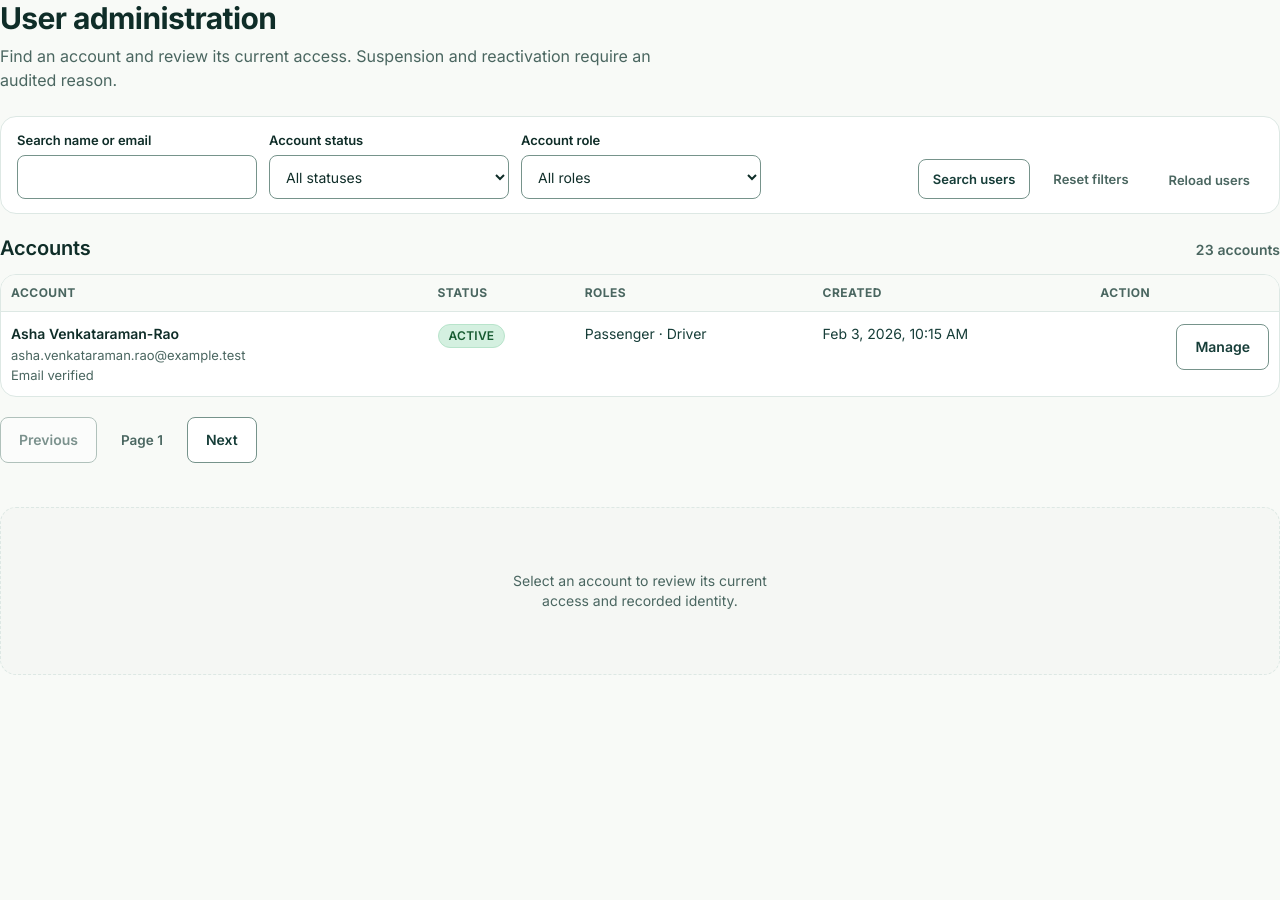
it: selects an account, requires an audited reason and refreshes the row after suspension
Click the button "Manage": (1223, 347) top-left (1176, 324), bottom-right (1269, 370)
(page scrolled)
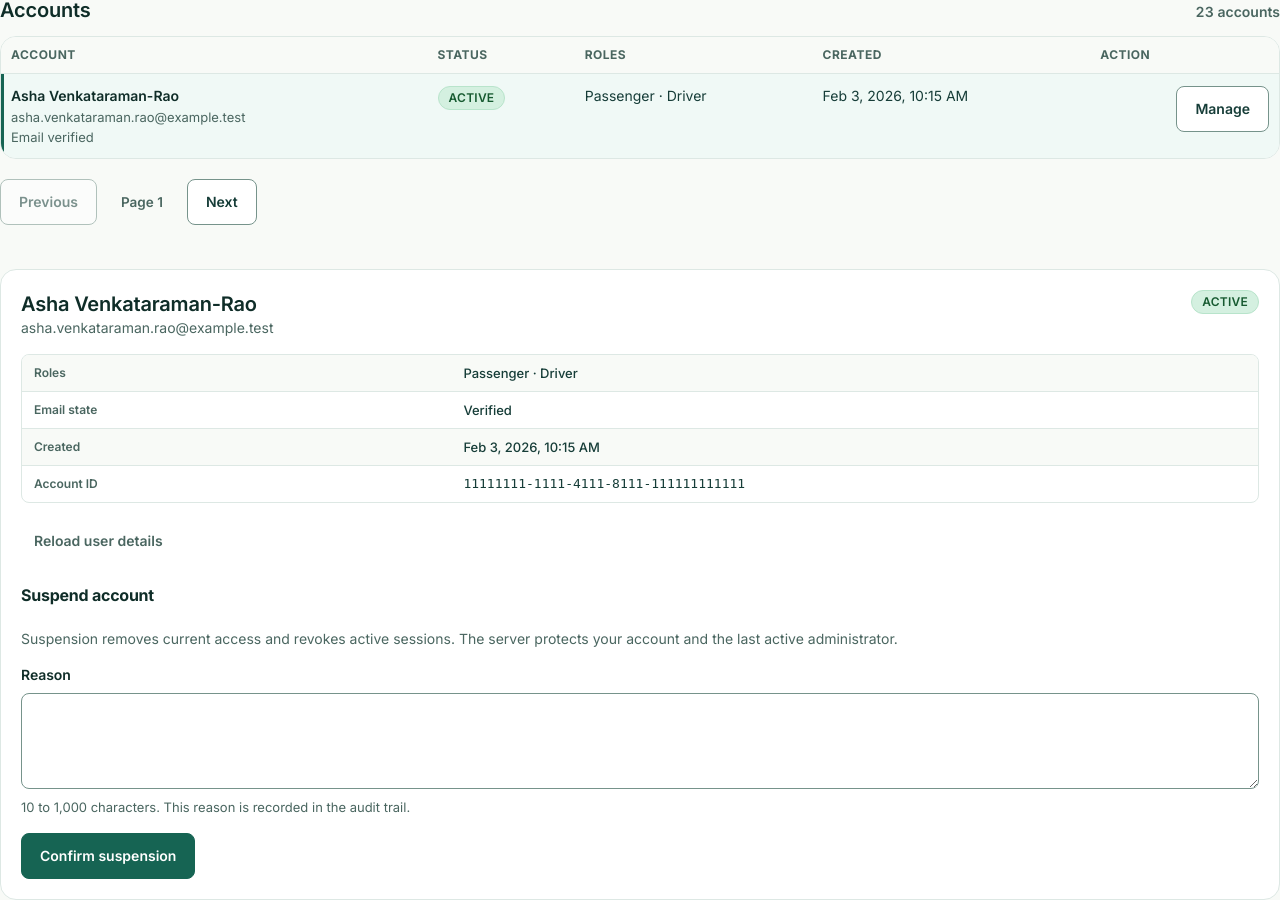
expect the text "Passenger · Driver" is shown 2 times: met, box top-left (575, 74), bottom-right (813, 158); top-left (463, 365), bottom-right (578, 381)
expect the heading "Asha Venkataraman-Rao" is shown: met, box top-left (21, 290), bottom-right (274, 318)
expect the text "11111111-1111-4111-8111-111111111111" is shown: met, box top-left (463, 476), bottom-right (745, 491)
Submit the form named "Change account access", box top-left (21, 579), bottom-right (1259, 879)
(page scrolled)
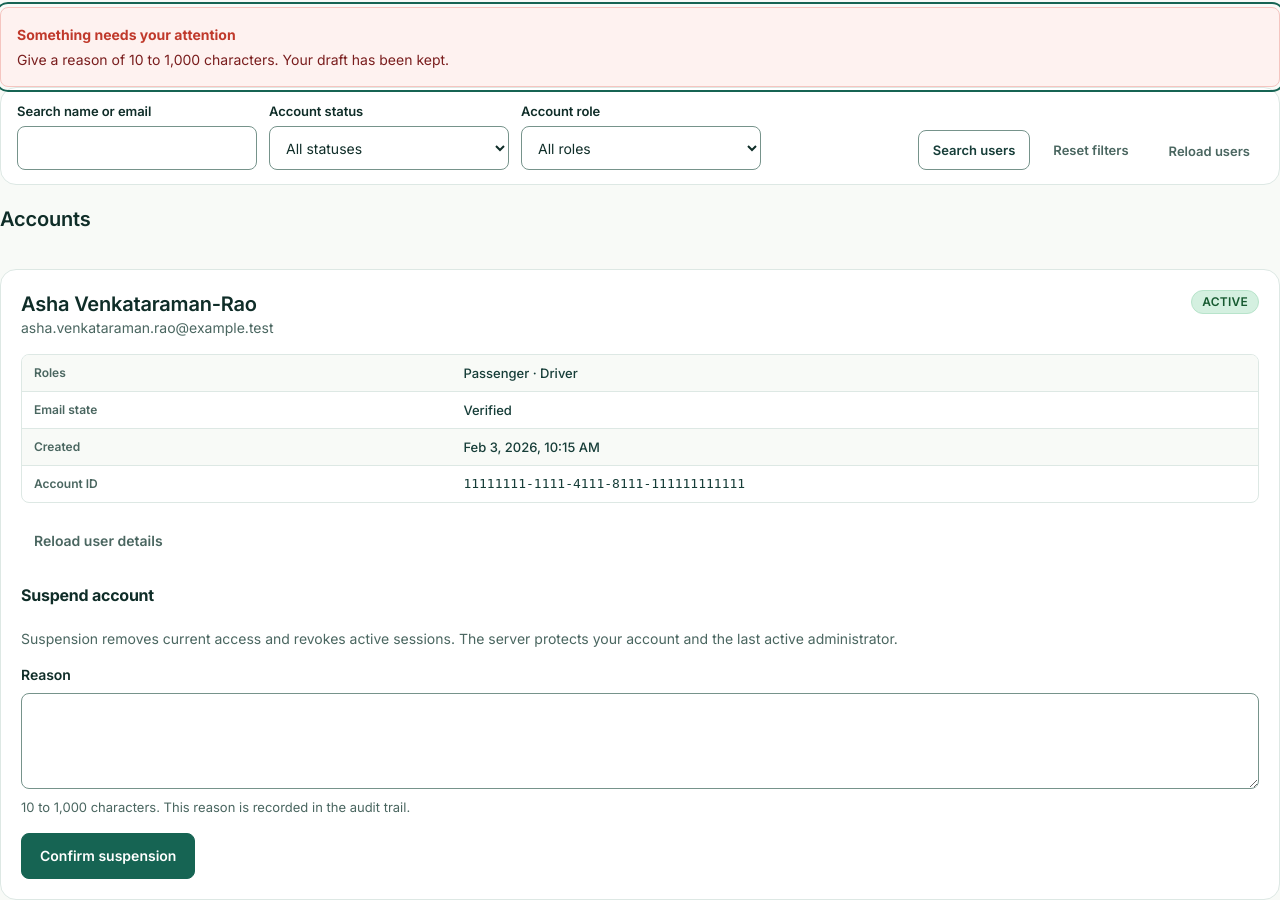
expect the message shows "reason": met, box top-left (17, 51), bottom-right (449, 68)
In the text box labelled "Reason": (640, 741) top-left (21, 693), bottom-right (1259, 789), type "Repeated policy violations on recorded journeys"
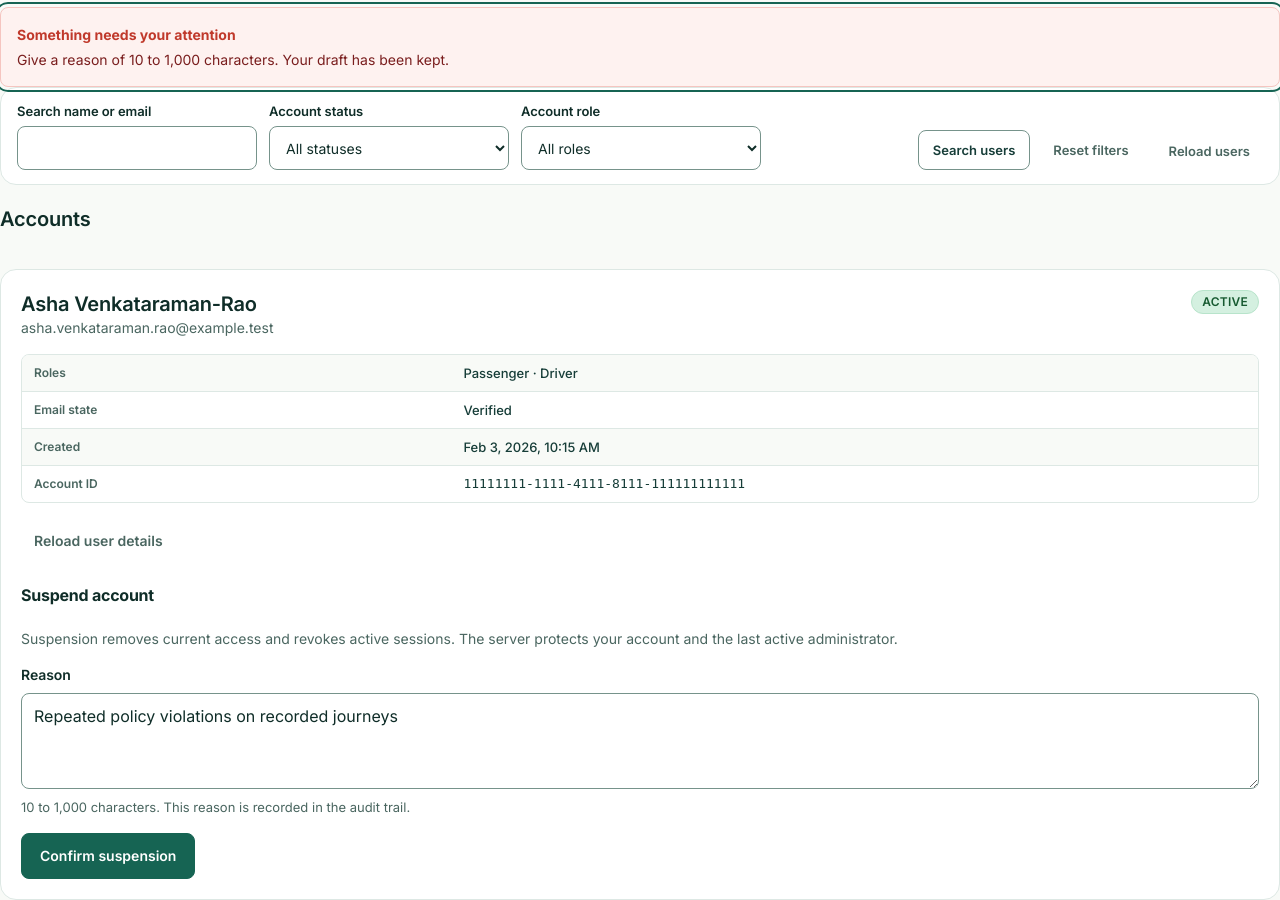
Submit the form named "Change account access", box top-left (21, 579), bottom-right (1259, 879)
(page scrolled)
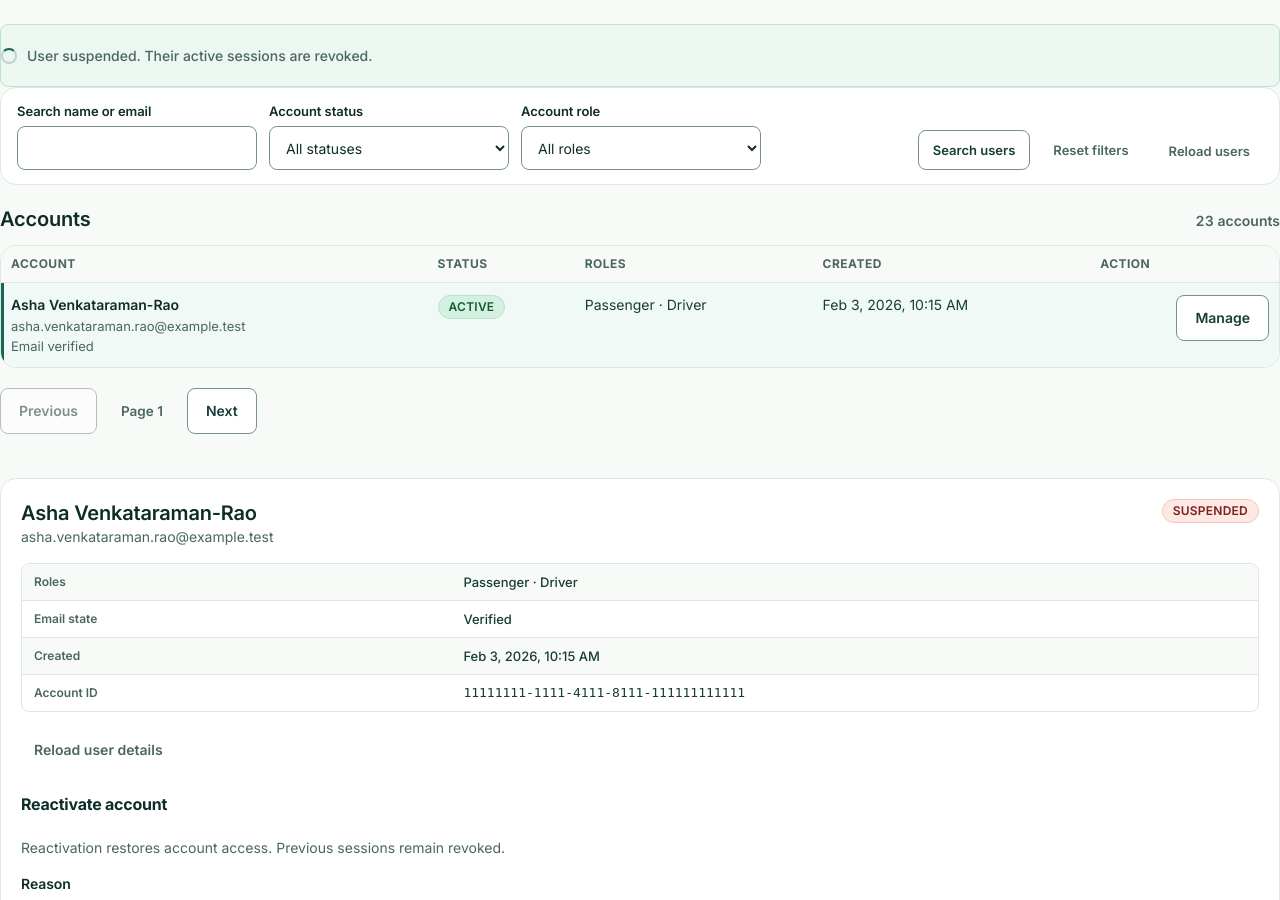
expect the text "User suspended. Their active sessions are revoked." is shown: met, box top-left (0, 24), bottom-right (1279, 87)
